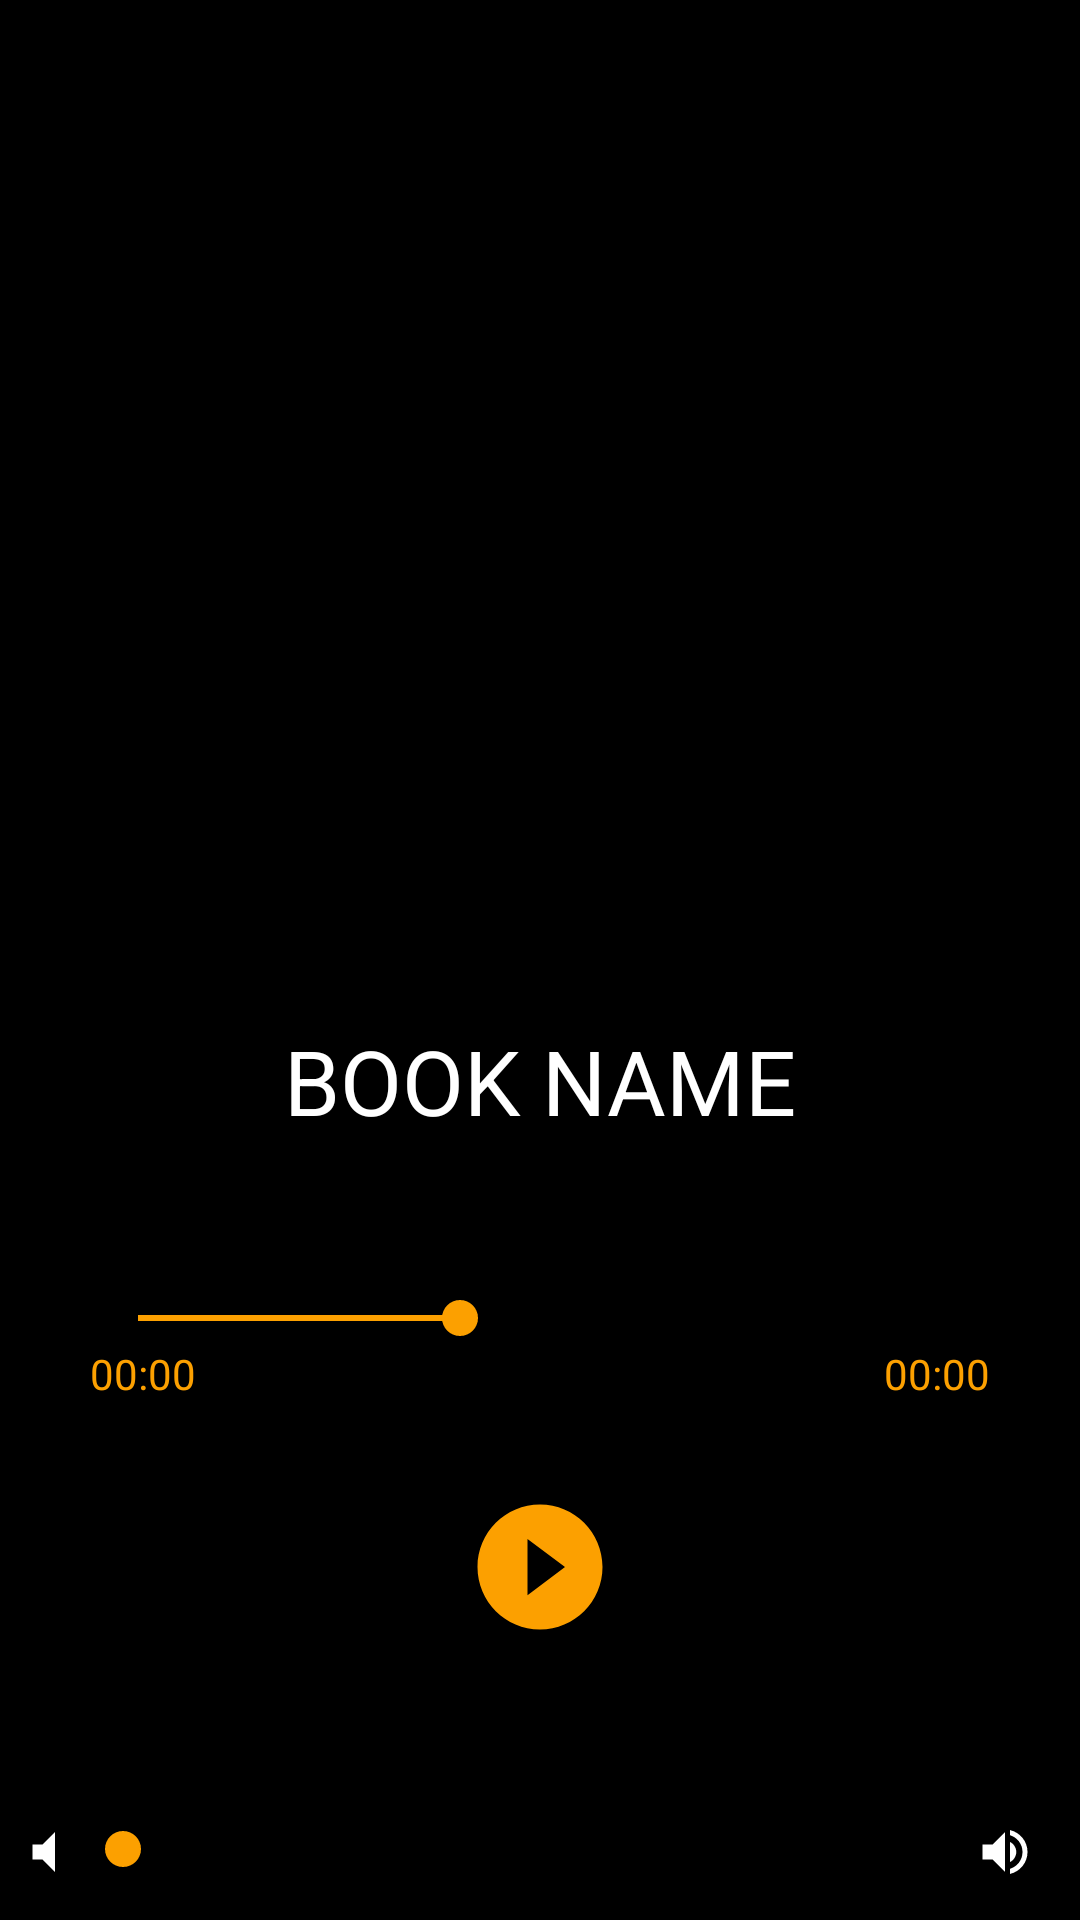

Screen size 1080 x 1920. Icon name, then its center in pixels as point (x, y):
low volume: point (43, 1852)
volume up: point (1005, 1852)
